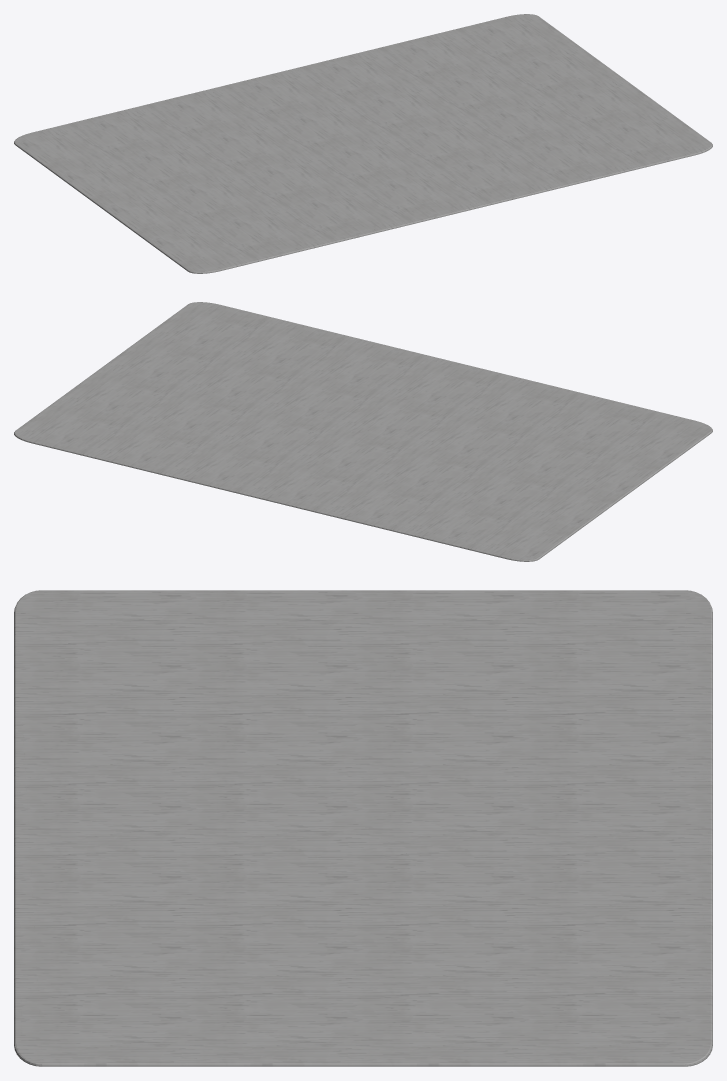
File: carpet_square_big.glb
The picture shows the model from 3 angles, top to bottom: view 1: azimuth 30°, elevation 25°; view 2: azimuth 150°, elevation 25°; view 3: azimuth 270°, elevation 25°; orthographic projection. The views are drawn at different scales.
Visible parts, largest first — view 1: Plane.039; view 2: Plane.039; view 3: Plane.039.
Part boxes in pixels (x1,y1,x2,y2): Plane.039: (14,14,712,273); Plane.039: (14,302,712,561); Plane.039: (14,590,712,1066).
Bounding box in the file's own units: 20.04 × 0.0505 × 12.47.
1 material, 1 textured.
